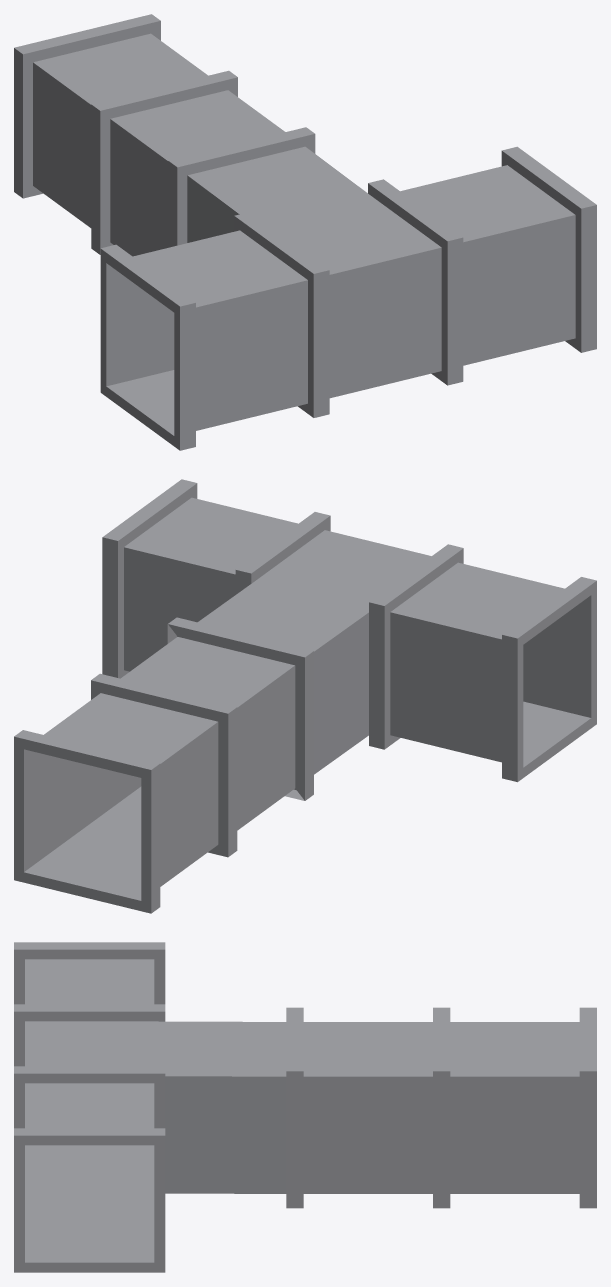
Rendered from ventCrossSection.glb.
The picture shows the model from 3 angles, top to bottom: view 1: azimuth 30°, elevation 25°; view 2: azimuth 150°, elevation 25°; view 3: azimuth 270°, elevation 25°; orthographic projection. The views are drawn at different scales.
Parts seen in each view (by area): view 1: Plane.001; view 2: Plane.001; view 3: Plane.001.
Boxes of the visible parts, box(x1,y1,x2,y2) form: Plane.001: box(14, 14, 596, 450); Plane.001: box(14, 479, 596, 913); Plane.001: box(14, 942, 596, 1272).
Bounding box in the file's own units: 5.3 × 1.75 × 6.76.
1 material, 1 textured.
